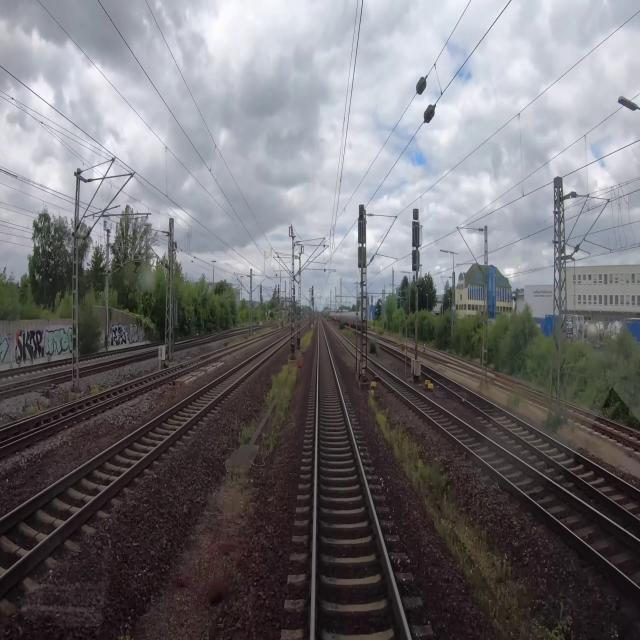Plant: (366, 389, 581, 639), (238, 362, 291, 444), (261, 367, 299, 462), (225, 474, 257, 526), (219, 556, 240, 606), (204, 491, 222, 511), (300, 329, 314, 352), (116, 628, 135, 639), (340, 323, 354, 337), (369, 339, 377, 355)
